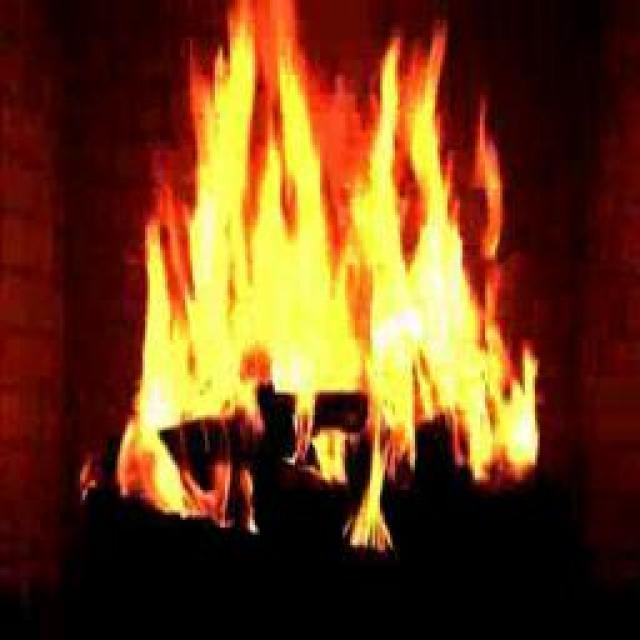Fire: (148, 62, 534, 465)
